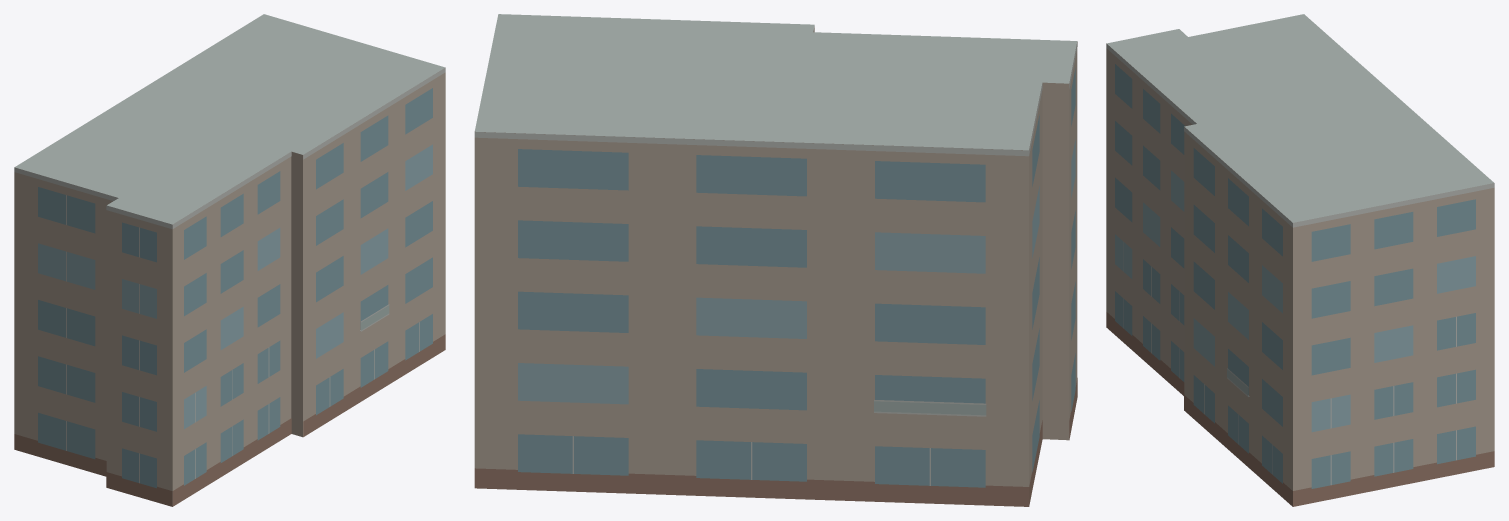
The model's file is survey-upis-32698371.glb.
3 views of the same model, side by side, from view 1: azimuth 30°, elevation 25°; view 2: azimuth 150°, elevation 25°; view 3: azimuth 270°, elevation 25° (orthographic). The views are drawn at different scales.
Parts seen in each view (by area): view 1: survey-upis-32698371.tmp; view 2: survey-upis-32698371.tmp; view 3: survey-upis-32698371.tmp.
Boxes of the visible parts, bbox=[...] form: survey-upis-32698371.tmp: bbox=[14, 14, 445, 506]; survey-upis-32698371.tmp: bbox=[474, 14, 1077, 506]; survey-upis-32698371.tmp: bbox=[1106, 14, 1494, 506].
Size of the model in its own units: 23.05 by 14.6 by 18.09.
